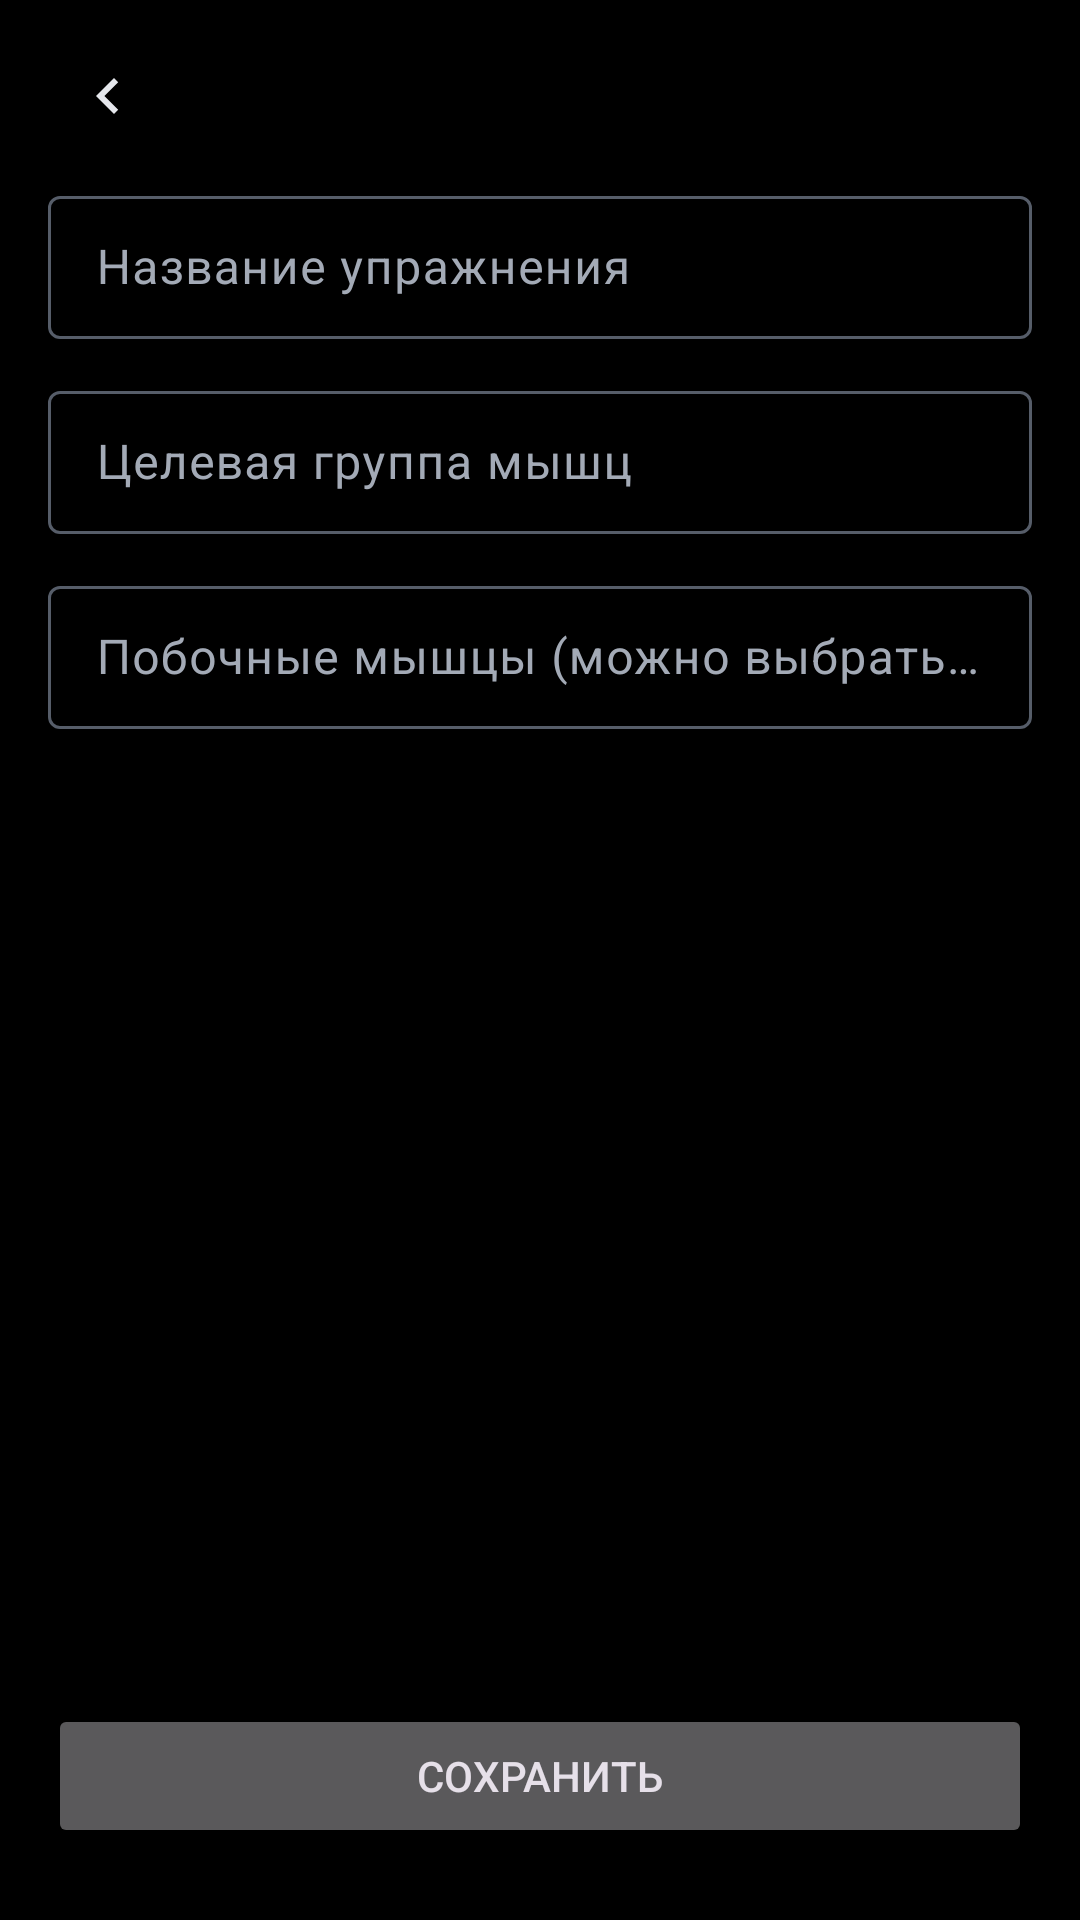

Screen size 1080w x 1920h. Icon name, then its box in pixels as (x1, y1, x2, y2):
Назад: (96, 78, 118, 114)
